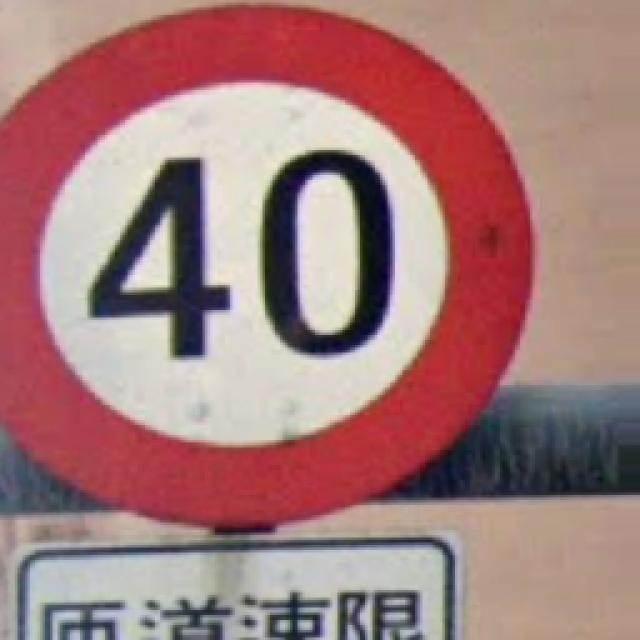Speed Limit -40-: (0, 10, 530, 522)
